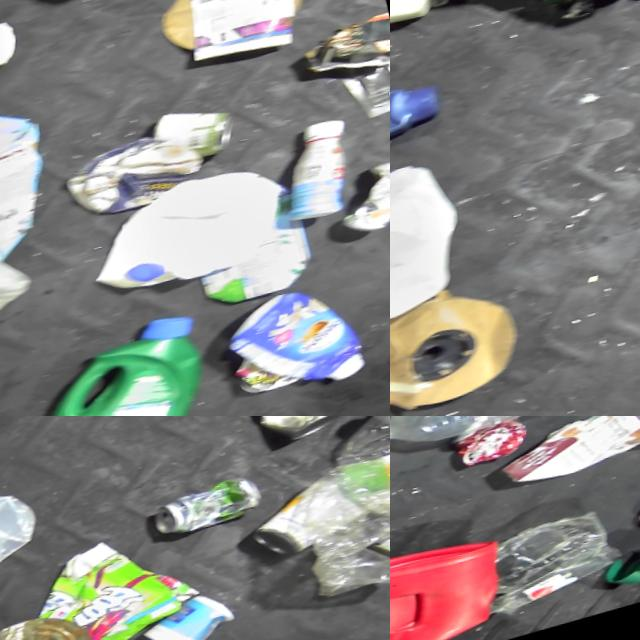can: (245, 492, 352, 573), (152, 479, 261, 546), (147, 102, 243, 174), (256, 416, 347, 458), (0, 608, 88, 640)
milk_jug: (89, 160, 314, 303), (390, 153, 477, 337), (0, 487, 47, 580)
non_white_jug: (1, 316, 228, 416), (230, 284, 367, 416), (390, 535, 512, 640), (390, 79, 441, 167)
plastic_bottle: (390, 416, 640, 472), (347, 416, 390, 553), (339, 63, 390, 140)
